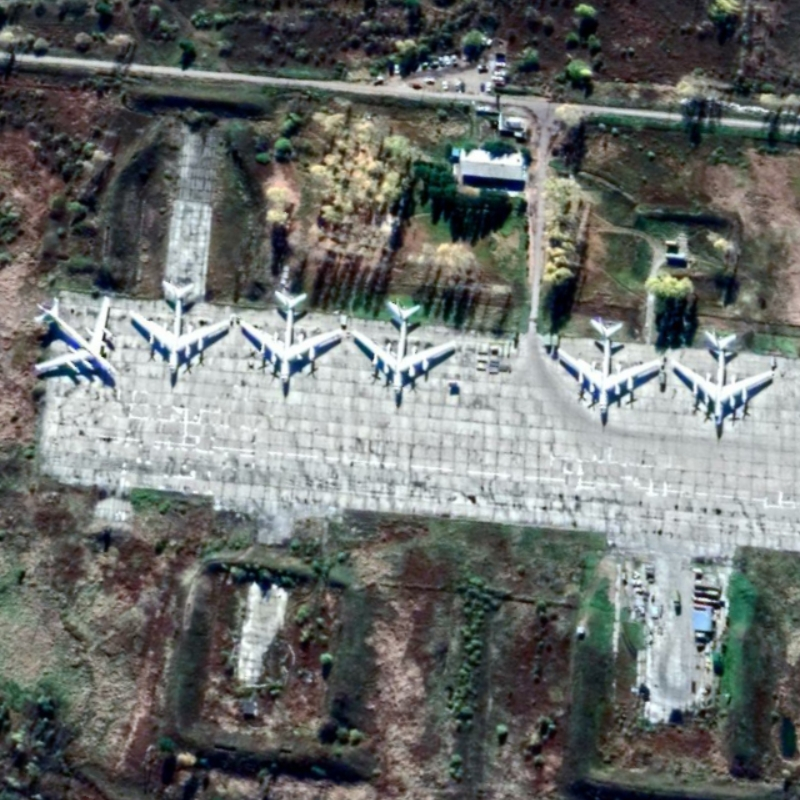A17: (554, 314, 664, 417), (349, 297, 459, 398), (670, 326, 775, 428), (127, 278, 232, 377), (238, 289, 344, 385), (31, 294, 119, 378)
